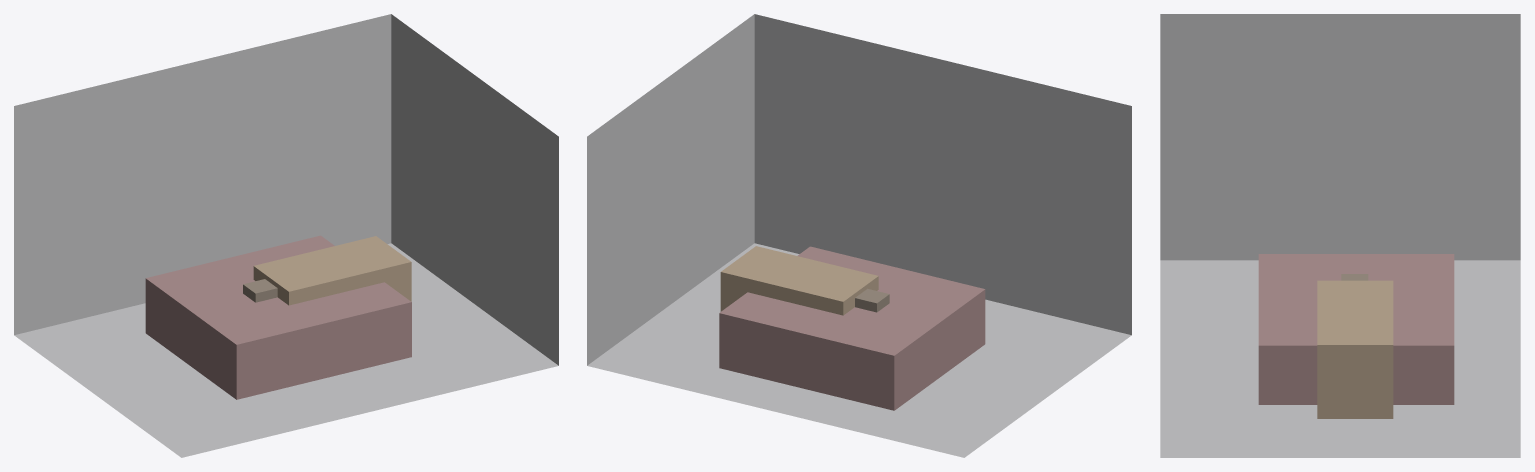
File: current_layout.glb
The picture shows the model from 3 angles, left to right: view 1: azimuth 30°, elevation 25°; view 2: azimuth 150°, elevation 25°; view 3: azimuth 270°, elevation 25°; orthographic projection. The views are drawn at different scales.
Parts seen in each view (by area): view 1: room, bed, desk, suitcase; view 2: room, bed, desk, suitcase; view 3: room, bed, desk.
Boxes of the visible parts, left/top/right/bottom form: room: left=14, top=14, right=558, bottom=457; bed: left=145, top=235, right=411, bottom=399; desk: left=253, top=236, right=411, bottom=305; suitcase: left=243, top=279, right=277, bottom=302; room: left=587, top=14, right=1131, bottom=457; bed: left=719, top=246, right=985, bottom=410; desk: left=720, top=246, right=878, bottom=315; suitcase: left=855, top=288, right=889, bottom=312; room: left=1160, top=14, right=1520, bottom=457; bed: left=1258, top=254, right=1454, bottom=404; desk: left=1317, top=280, right=1393, bottom=418.
Size of the model in its own units: 4.31 by 2.5 by 3.31.
